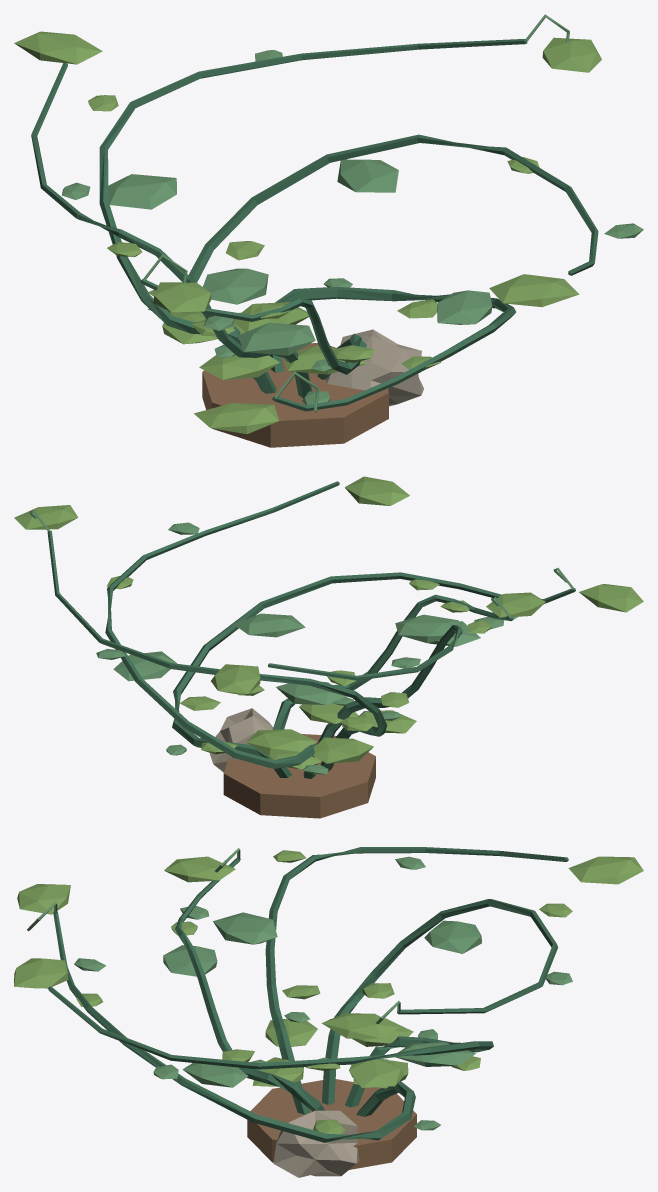
The model's file is PLANT_11.obj.
3 renders of one model, top to bottom at view 1: azimuth 30°, elevation 25°; view 2: azimuth 150°, elevation 25°; view 3: azimuth 270°, elevation 25°, orthographic. The views are drawn at different scales.
Parts seen in each view (by area): view 1: mound, leaves_2, leaves_4, vine_3, leaves_1, leaves_3, leaves_5, vine_4, vine_5, stones, vine_2, vine_1; view 2: mound, leaves_4, leaves_3, leaves_2, vine_4, vine_5, leaves_5, vine_3, leaves_1, vine_2, vine_1, stones; view 3: mound, leaves_2, leaves_4, vine_5, leaves_3, vine_3, vine_4, leaves_1, stones, vine_2, leaves_5, vine_1.
Boxes of the visible parts, box(x1,y1,x2,y2) form: mound: box(202, 343, 388, 447); leaves_2: box(14, 31, 279, 379); leaves_4: box(147, 157, 643, 332); vine_3: box(99, 39, 527, 393); leaves_1: box(153, 282, 374, 374); leaves_3: box(88, 37, 601, 344); leaves_5: box(194, 278, 492, 434); vine_4: box(188, 134, 598, 380); vine_5: box(269, 286, 516, 411); stones: box(325, 329, 423, 406); vine_2: box(31, 62, 311, 398); vine_1: box(141, 279, 366, 379); mound: box(223, 734, 375, 818); leaves_4: box(106, 476, 409, 774); leaves_3: box(14, 505, 374, 763); leaves_2: box(211, 614, 491, 733); vine_4: box(105, 481, 339, 778); vine_5: box(172, 572, 575, 777); leaves_5: box(166, 579, 643, 769); vine_3: box(47, 530, 387, 771); leaves_1: box(299, 592, 545, 723); vine_2: box(268, 625, 462, 744); vine_1: box(273, 594, 513, 729); stones: box(209, 708, 273, 772); mound: box(247, 1079, 416, 1169); leaves_2: box(213, 850, 643, 1046); leaves_4: box(14, 958, 480, 1087); vine_5: box(53, 912, 415, 1142); leaves_3: box(321, 903, 572, 1046); vine_3: box(322, 899, 557, 1104); vine_4: box(48, 986, 493, 1107); leaves_1: box(163, 856, 303, 1086); stones: box(273, 1110, 359, 1177); vine_2: box(265, 847, 568, 1114); leaves_5: box(17, 884, 440, 1134); vine_1: box(175, 858, 324, 1111).
Bounding box in the file's own units: 3.45 × 1.76 × 3.72.
